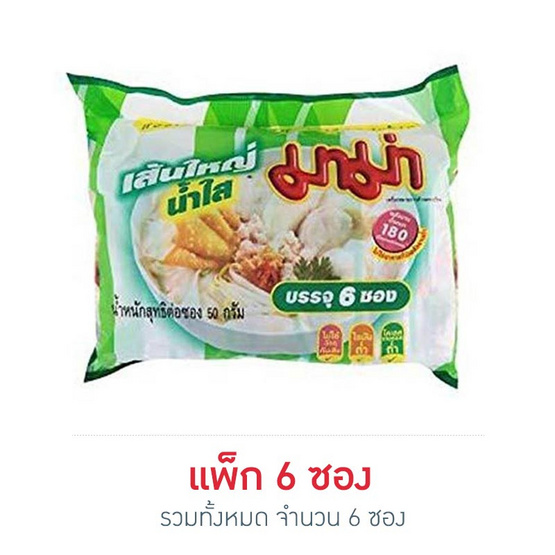Snack: (60, 63, 483, 396)
